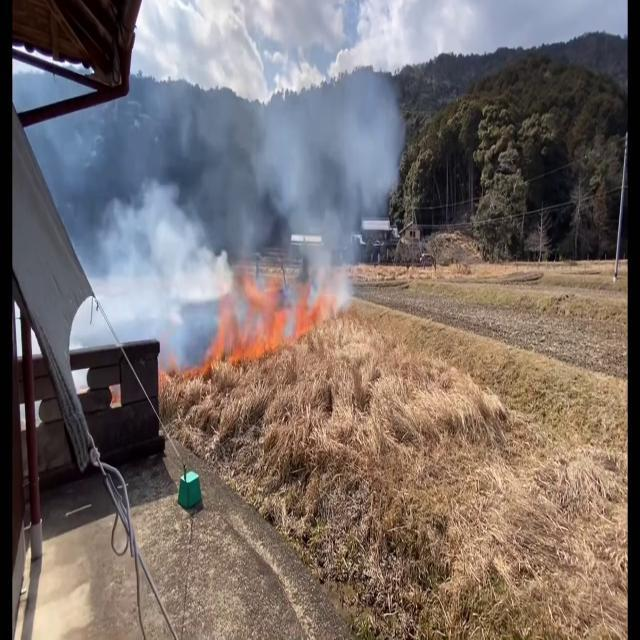Fire: (170, 266, 373, 390)
Smoke: (72, 25, 420, 363)
